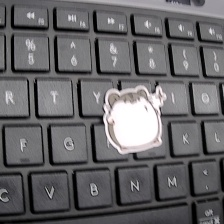mouse: (103, 85, 168, 154)
